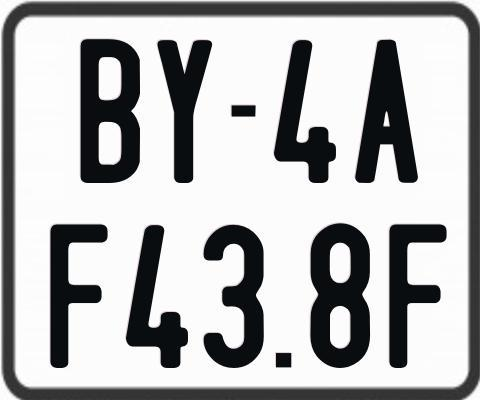3: (204, 224, 268, 373)
4: (274, 40, 339, 188), (125, 222, 189, 370)
8: (308, 220, 368, 366)
A: (355, 40, 418, 187)
B: (80, 39, 140, 183)
F: (50, 222, 114, 369), (386, 222, 448, 370)
Y: (156, 39, 212, 184)
